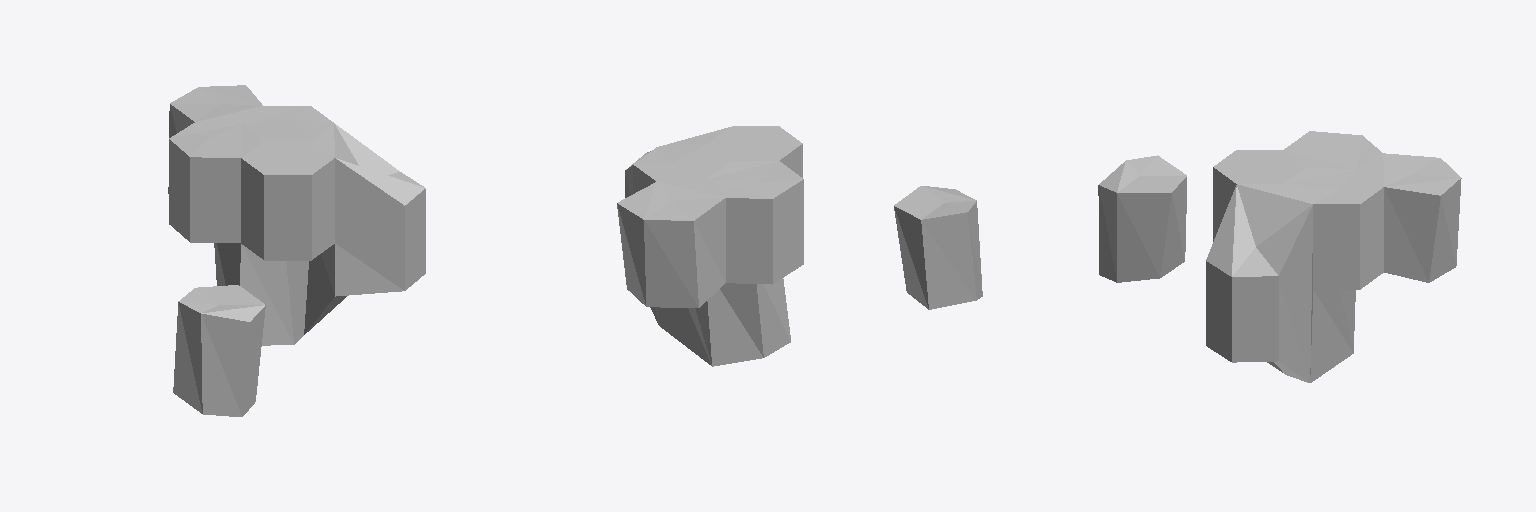
File: hex5.2.obj
The picture shows the model from 3 angles: view 1: azimuth 30°, elevation 25°; view 2: azimuth 150°, elevation 25°; view 3: azimuth 270°, elevation 25°; orthographic projection.
Parts seen in each view (by area): view 1: base1.001, base1, top-cell.001, base2, top-cell.002, top-cell, base3; view 2: top-cell, base2, top-cell.001, top-cell.002, base3, base1, base1.001; view 3: base1.001, top-cell.001, top-cell, base3, top-cell.002, base1, base2.
Boxes of the visible parts, x1,y1,x2,y2 form: base1.001: [304, 123, 425, 334]; base1: [241, 141, 334, 260]; top-cell.001: [173, 285, 265, 416]; base2: [169, 122, 263, 242]; top-cell.002: [214, 243, 308, 345]; top-cell: [168, 85, 262, 193]; base3: [242, 106, 333, 140]; top-cell: [617, 180, 725, 307]; base2: [705, 161, 803, 284]; top-cell.001: [894, 186, 982, 309]; top-cell.002: [659, 278, 790, 366]; base3: [633, 144, 731, 193]; base1: [709, 126, 802, 177]; base1.001: [625, 127, 730, 324]; base1.001: [1206, 184, 1312, 382]; top-cell.001: [1098, 155, 1186, 282]; top-cell: [1358, 153, 1461, 282]; base3: [1284, 167, 1383, 289]; top-cell.002: [1267, 290, 1355, 382]; base1: [1213, 150, 1306, 241]; base2: [1284, 131, 1382, 169].
Bounding box in the file's own units: 7.16 × 4.7 × 7.71.